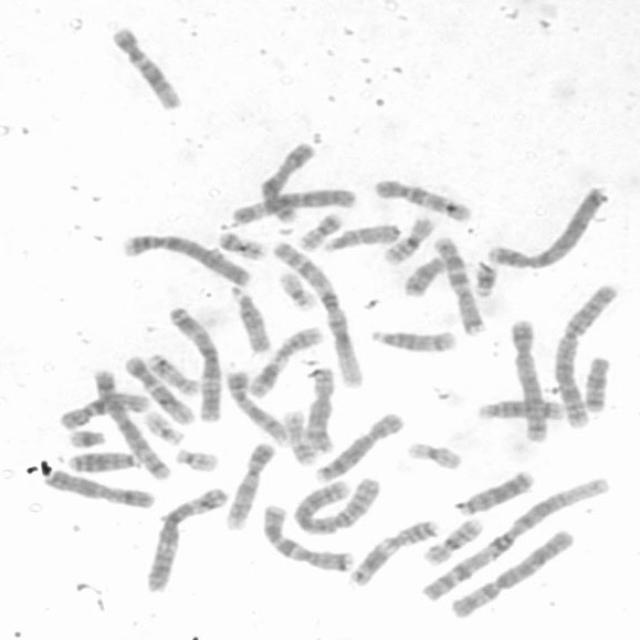A1: (416, 474, 614, 606), (270, 239, 364, 391)
A2: (549, 279, 620, 429), (291, 474, 382, 534)
A3: (141, 483, 230, 595), (166, 303, 224, 423)
B4: (484, 183, 609, 271), (117, 230, 253, 287)
B5: (90, 364, 172, 481), (505, 316, 551, 444)
C10: (370, 176, 473, 222), (56, 389, 152, 432)
C11: (346, 516, 440, 587), (246, 324, 323, 400)
C12: (107, 22, 184, 112), (120, 354, 197, 426)
C6: (444, 526, 576, 620), (229, 185, 358, 227)
C7: (256, 501, 356, 573), (430, 232, 486, 338)
C8: (310, 408, 406, 484), (303, 365, 337, 455)
C9: (224, 366, 291, 446), (221, 439, 276, 532)
D13: (452, 467, 536, 517), (63, 447, 144, 475)
D14: (366, 325, 459, 354), (472, 395, 566, 423)
D15: (227, 283, 272, 354), (319, 219, 402, 252)
E16: (420, 514, 484, 567), (380, 213, 436, 265)
E17: (144, 351, 200, 396), (280, 407, 318, 467)
E18: (398, 252, 446, 299), (580, 354, 612, 414)
F19: (274, 267, 317, 311), (405, 439, 464, 471)
F20: (295, 208, 343, 252), (214, 228, 266, 262)
G21: (470, 260, 497, 299), (64, 426, 108, 449)
G22: (140, 407, 186, 446), (171, 446, 220, 474)
X: (255, 140, 315, 227), (42, 467, 156, 509)
